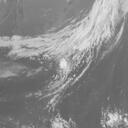cyclone: (28, 32, 98, 108)
